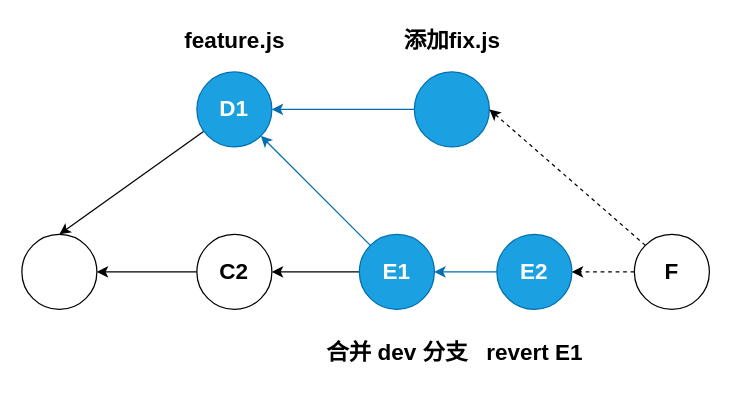
Some shapes in this 731 by 393 pixel diagram are drawn without their labels. Each missing label, with the centre of its shape:
"C1" goes at point (59, 271).
"D2" goes at point (451, 109).
